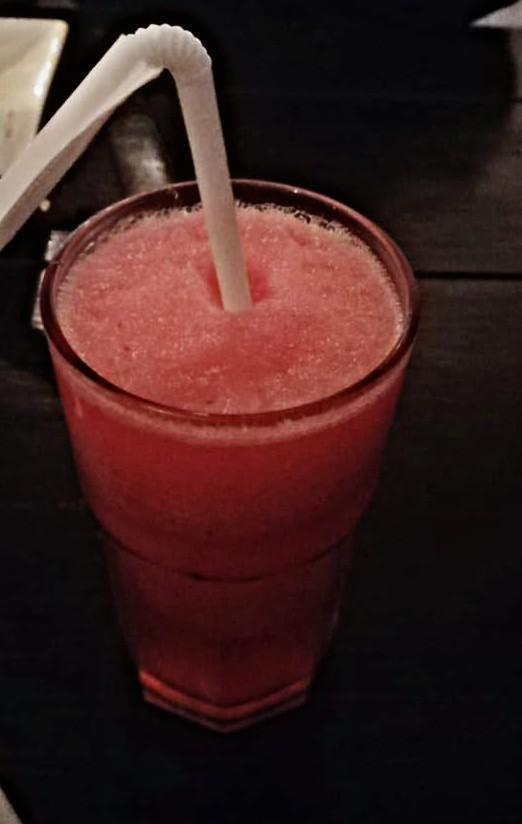glass-normal: (37, 174, 423, 735)
